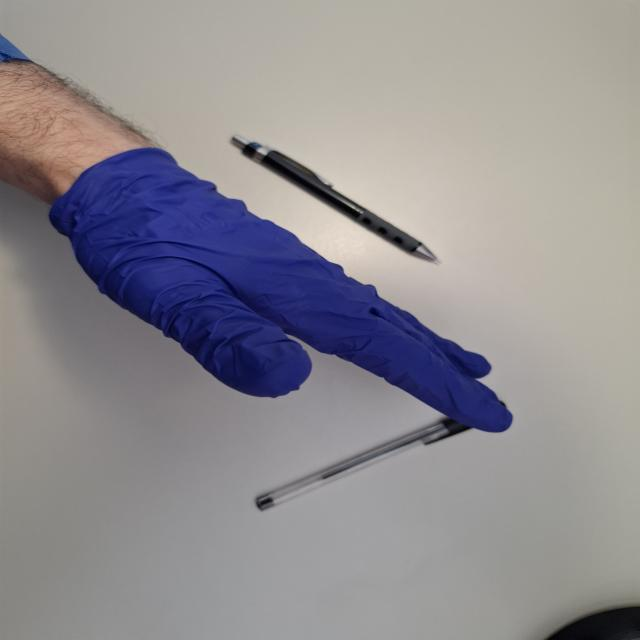glove_on: (38, 139, 518, 437)
